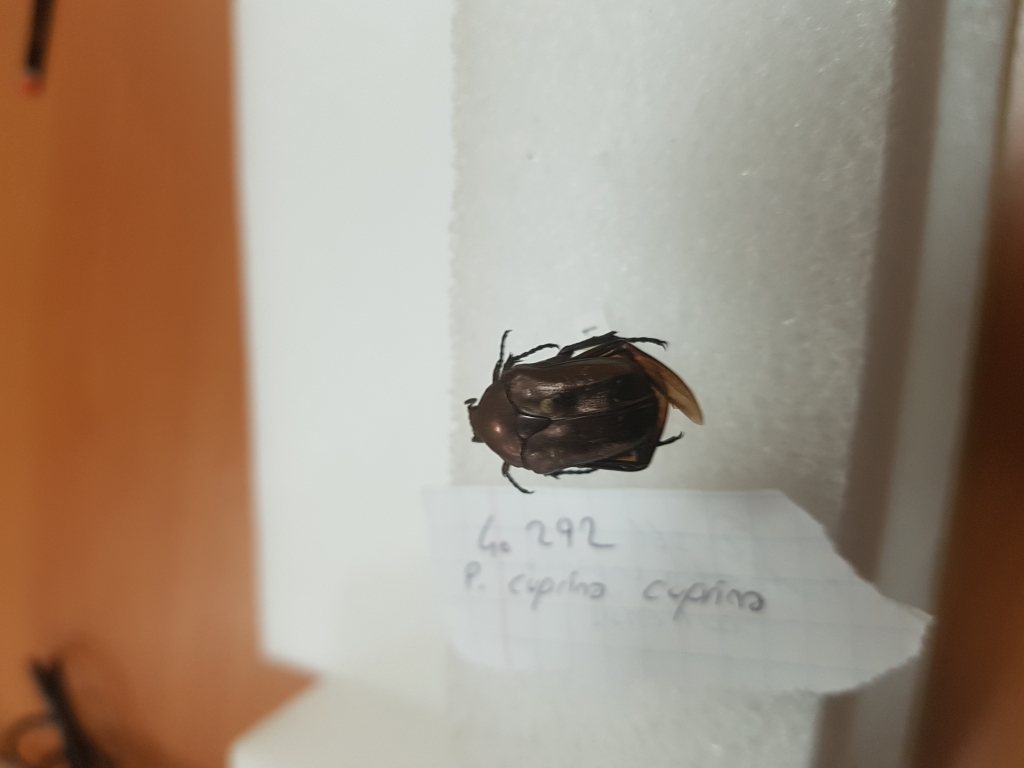Protaetia_cuprina_cuprina: (462, 306, 714, 499)
